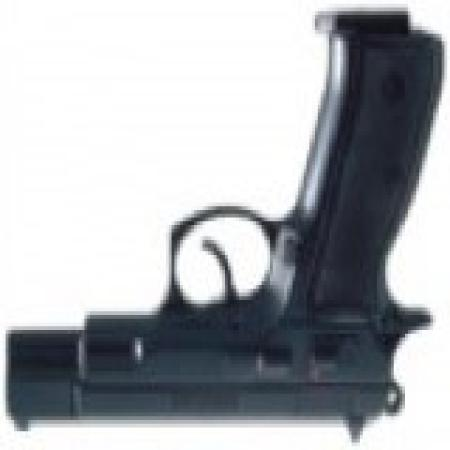Pistol: (2, 12, 444, 442)
